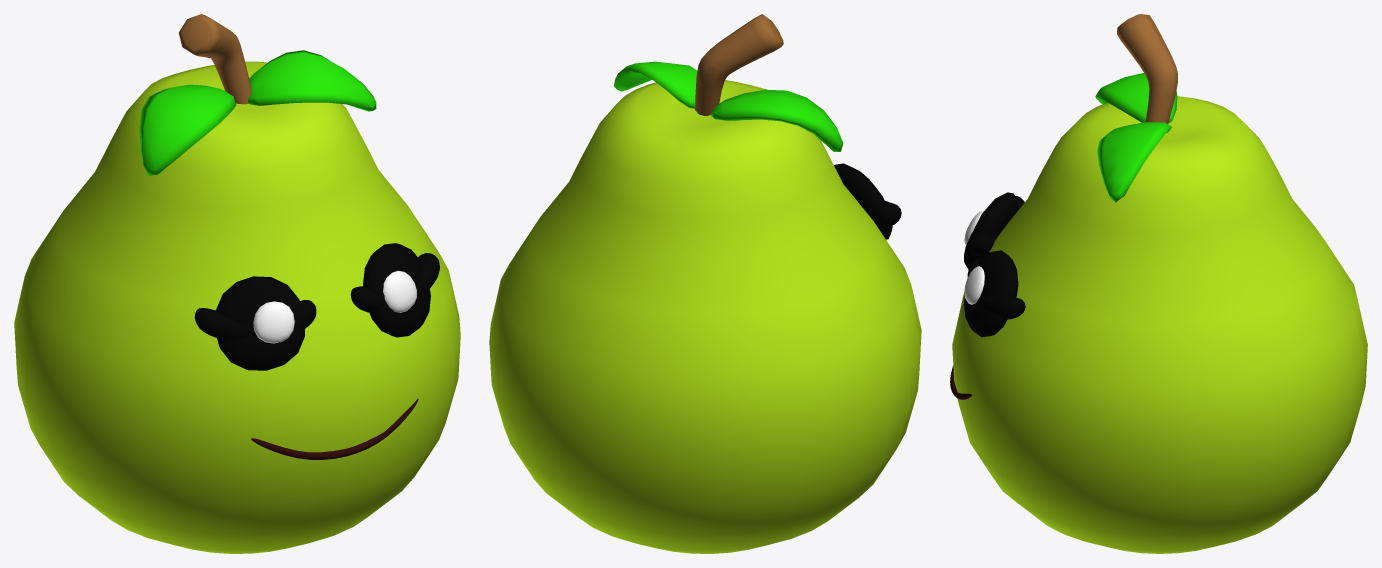
File: Pear.fbx
3 renders of one model, left to right at view 1: azimuth 30°, elevation 25°; view 2: azimuth 150°, elevation 25°; view 3: azimuth 270°, elevation 25°, orthographic. The views are drawn at different scales.
Parts seen in each view (by area): view 1: Pear, Eyes.001, Blink_eyes.001; view 2: Pear, Eyes.001, Blink_eyes.001; view 3: Pear, Eyes.001, Blink_eyes.001.
Boxes of the visible parts, x1,y1,x2,y2 form: Pear: [14, 14, 460, 553]; Eyes.001: [216, 243, 430, 370]; Blink_eyes.001: [194, 253, 439, 339]; Pear: [489, 14, 921, 553]; Eyes.001: [834, 163, 892, 239]; Blink_eyes.001: [869, 201, 901, 227]; Pear: [950, 14, 1367, 553]; Eyes.001: [964, 192, 1018, 337]; Blink_eyes.001: [967, 196, 1025, 319].
Size of the model in its own units: 171 by 225 by 172.
